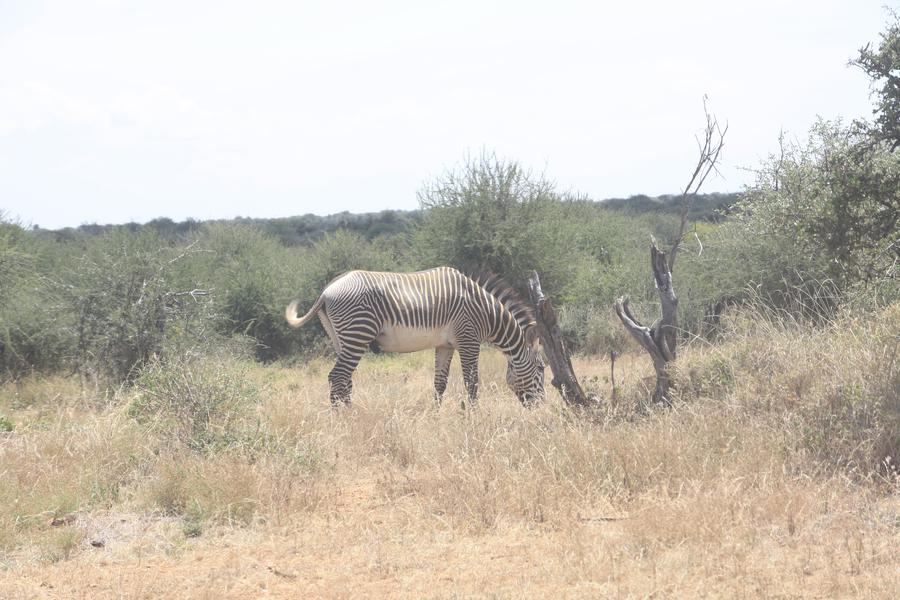zebra_grevys: (319, 265, 485, 341)
